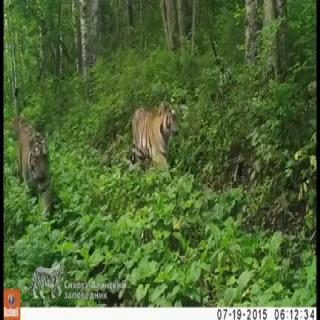Tiger: (9, 92, 63, 222), (124, 93, 180, 178)
